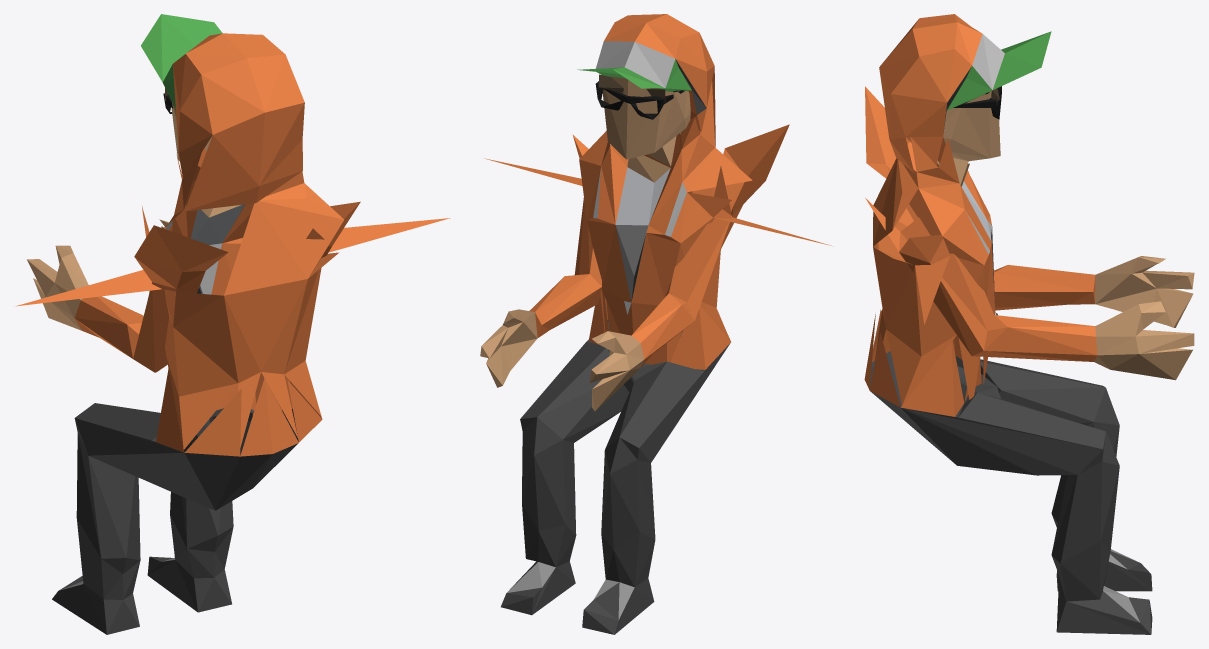
The model's file is Seated_Cousininlaw.obj.
3 renders of one model, left to right at view 1: azimuth 30°, elevation 25°; view 2: azimuth 150°, elevation 25°; view 3: azimuth 270°, elevation 25°, orthographic. The views are drawn at different scales.
Parts seen in each view (by area): view 1: Seated_Cousininlaw; view 2: Seated_Cousininlaw; view 3: Seated_Cousininlaw.
Boxes of the visible parts, x1=… form: Seated_Cousininlaw: x1=16, y1=14, x2=450, y2=634; Seated_Cousininlaw: x1=480, y1=14, x2=831, y2=634; Seated_Cousininlaw: x1=864, y1=14, x2=1194, y2=634.
Size of the model in its own units: 1.08 by 1.51 by 0.7768.
1 material, 1 textured.
